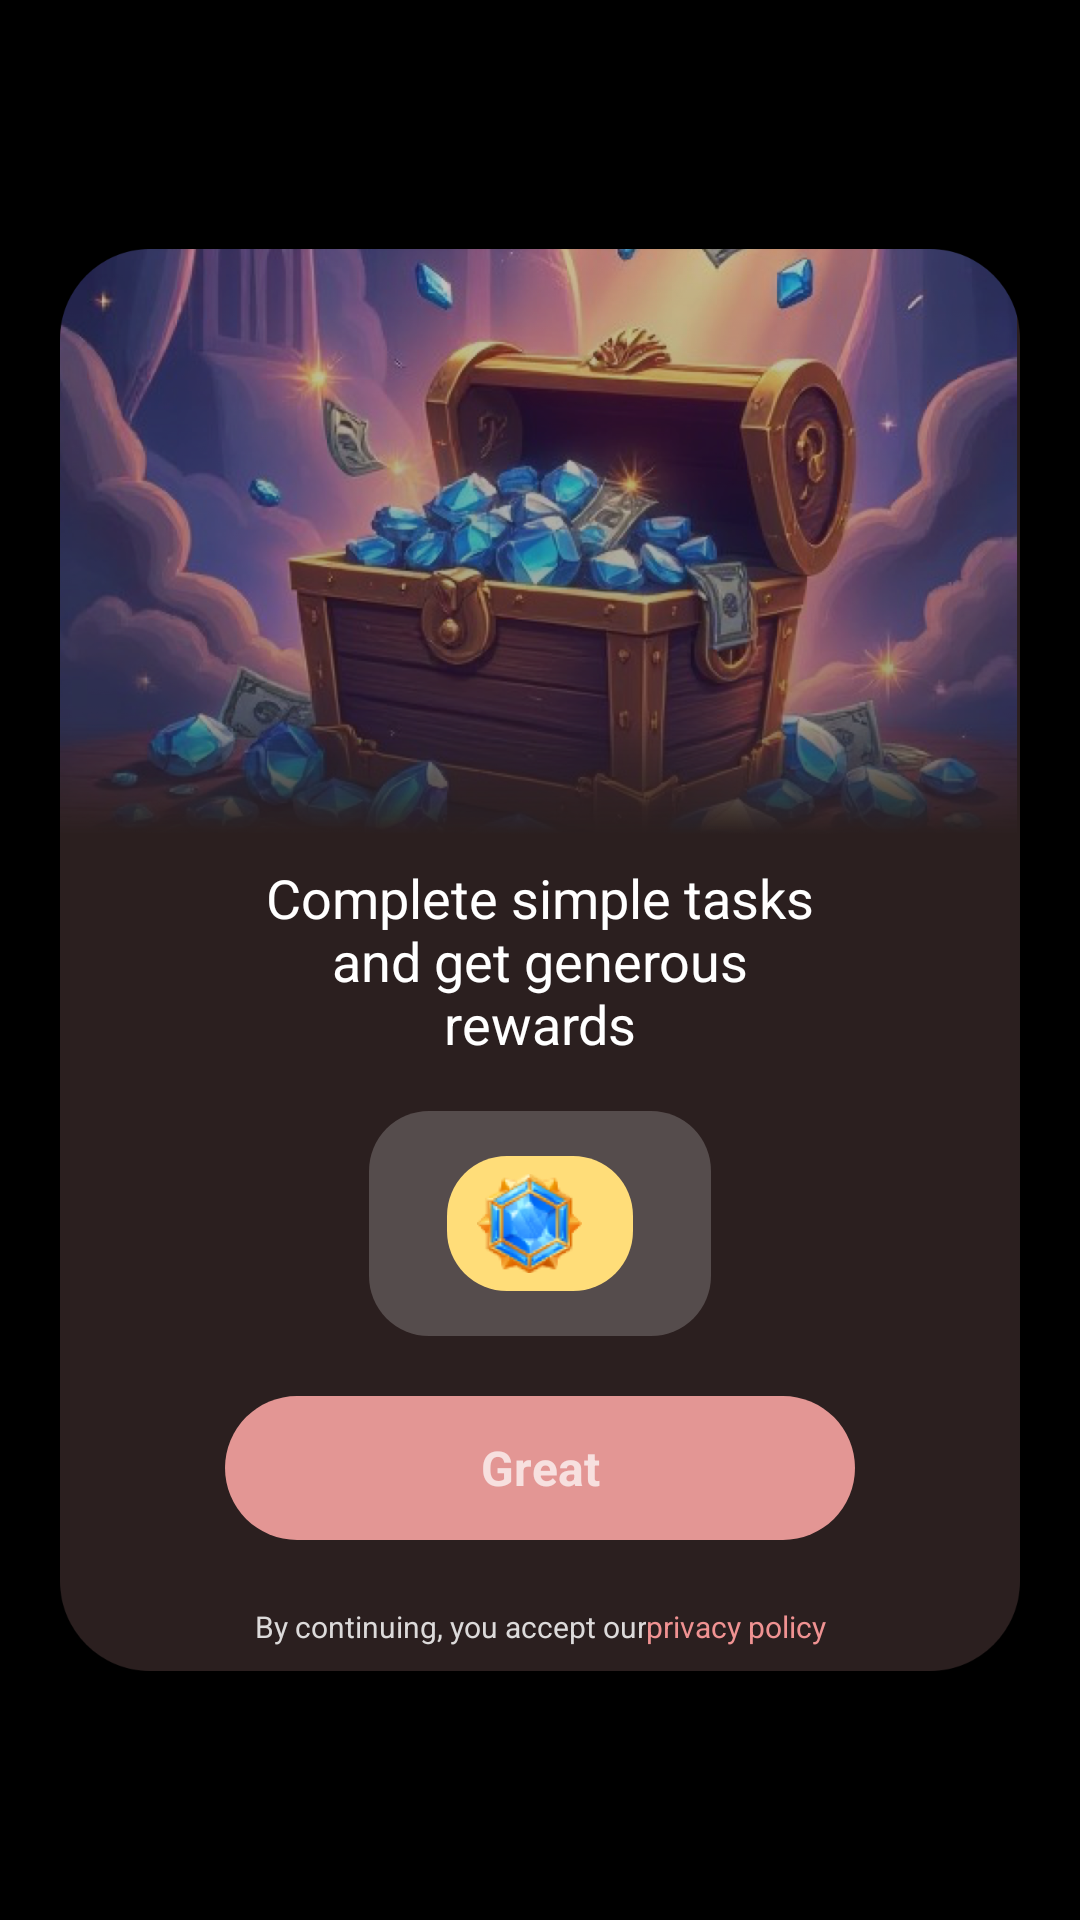

Icon click points for this 1080 x 1920 phone screenshot, format (x,y):
diamond: (529,1223)
